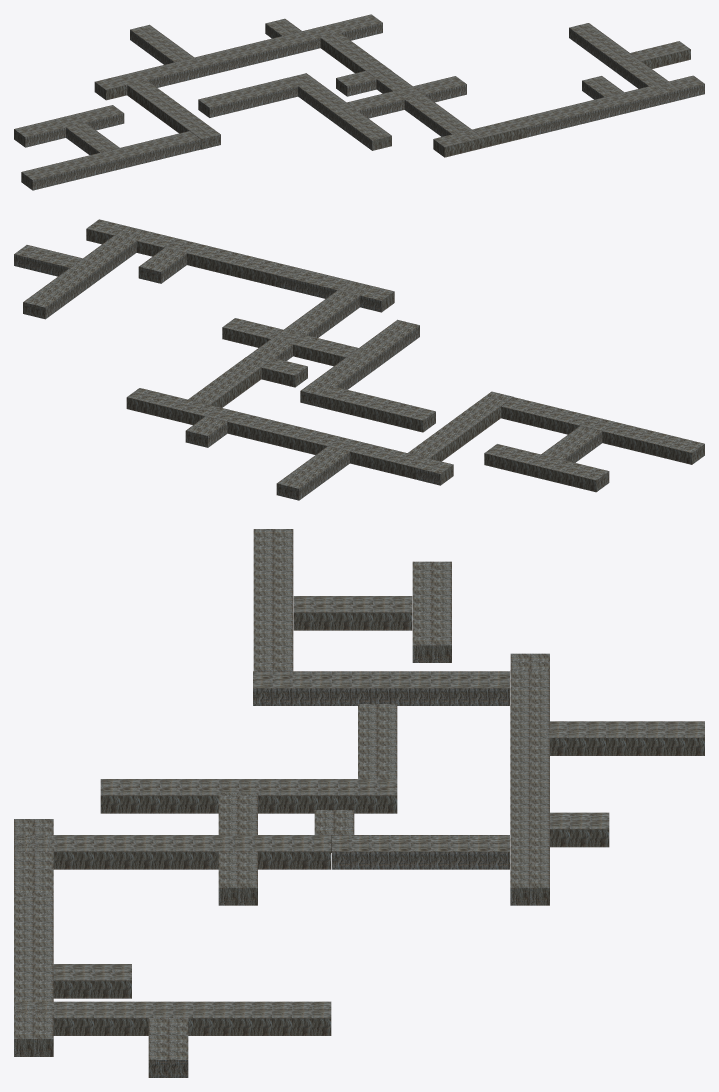
File: atap-patrick.glb
3 renders of one model, top to bottom at view 1: azimuth 30°, elevation 25°; view 2: azimuth 150°, elevation 25°; view 3: azimuth 270°, elevation 25°, orthographic. The views are drawn at different scales.
Visible parts, largest first — view 1: Cube.016, Cube.013, Cube.024, Cube.018, Cube.025, Cube.014, Cube.022, Cube.020, Cube.017, Cube.011, Cube.009, Cube.007 (+7 smaller); view 2: Cube.016, Cube.013, Cube.024, Cube.025, Cube.018, Cube.011, Cube.022, Cube.020, Cube.014, Cube.017, Cube.009, Cube.015 (+7 smaller); view 3: Cube.025, Cube.022, Cube.018, Cube.016, Cube.014, Cube.024, Cube.007, Cube.013, Cube.015, Cube.012, Cube.011, Cube.020 (+6 smaller).
Boxes of the visible parts, x1,y1,x2,y2 form: Cube.016: (115,14,382,95); Cube.013: (21,131,200,190); Cube.024: (517,75,704,137); Cube.018: (287,73,391,150); Cube.025: (569,23,679,93); Cube.014: (127,80,220,149); Cube.022: (372,71,482,142); Cube.020: (337,76,466,118); Cube.017: (198,78,298,117); Cube.011: (14,105,124,147); Cube.009: (433,117,529,157); Cube.007: (320,33,391,75); Cube.016: (126,388,430,479); Cube.013: (501,397,704,464); Cube.024: (86,219,299,287); Cube.025: (23,226,148,319); Cube.018: (300,319,419,407); Cube.011: (484,444,609,492); Cube.022: (247,281,372,362); Cube.020: (222,318,367,366); Cube.014: (408,391,513,461); Cube.017: (322,387,435,432); Cube.009: (280,267,394,312); Cube.015: (276,446,349,500); Cube.025: (15,1001,331,1035); Cube.022: (15,835,331,869); Cube.018: (100,779,397,813); Cube.016: (510,670,549,905); Cube.014: (253,671,509,705); Cube.024: (14,888,53,1056); Cube.007: (332,835,509,869); Cube.013: (253,529,293,671); Cube.015: (546,721,704,755); Cube.012: (293,596,412,630); Cube.011: (412,561,451,662); Cube.020: (218,793,257,905).
Size of the model in its own units: 63.5 by 1 by 34.93.
Materials: 19 (19 with a texture image).
